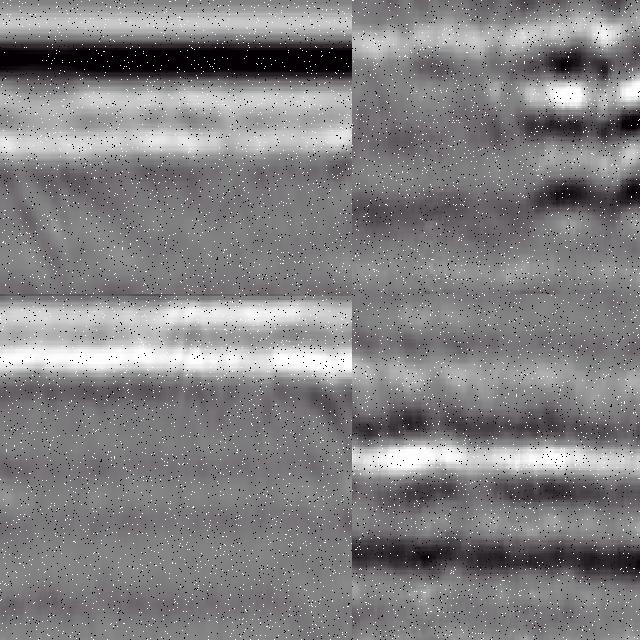loose: (505, 13, 640, 235)
